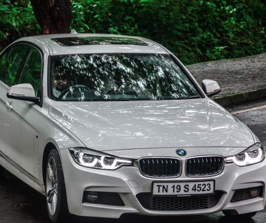TN19S4523: (152, 181, 214, 194)
